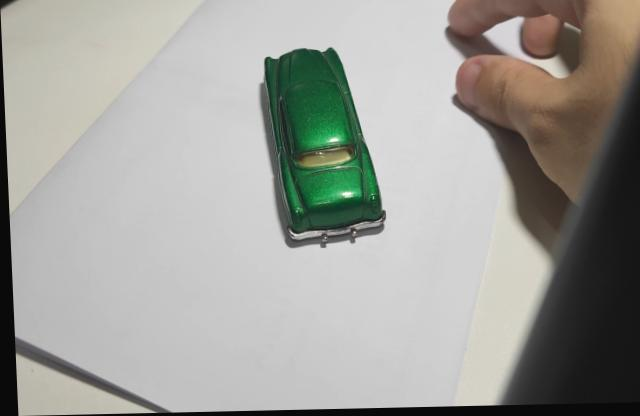06_MASERATI: (258, 50, 385, 249)
